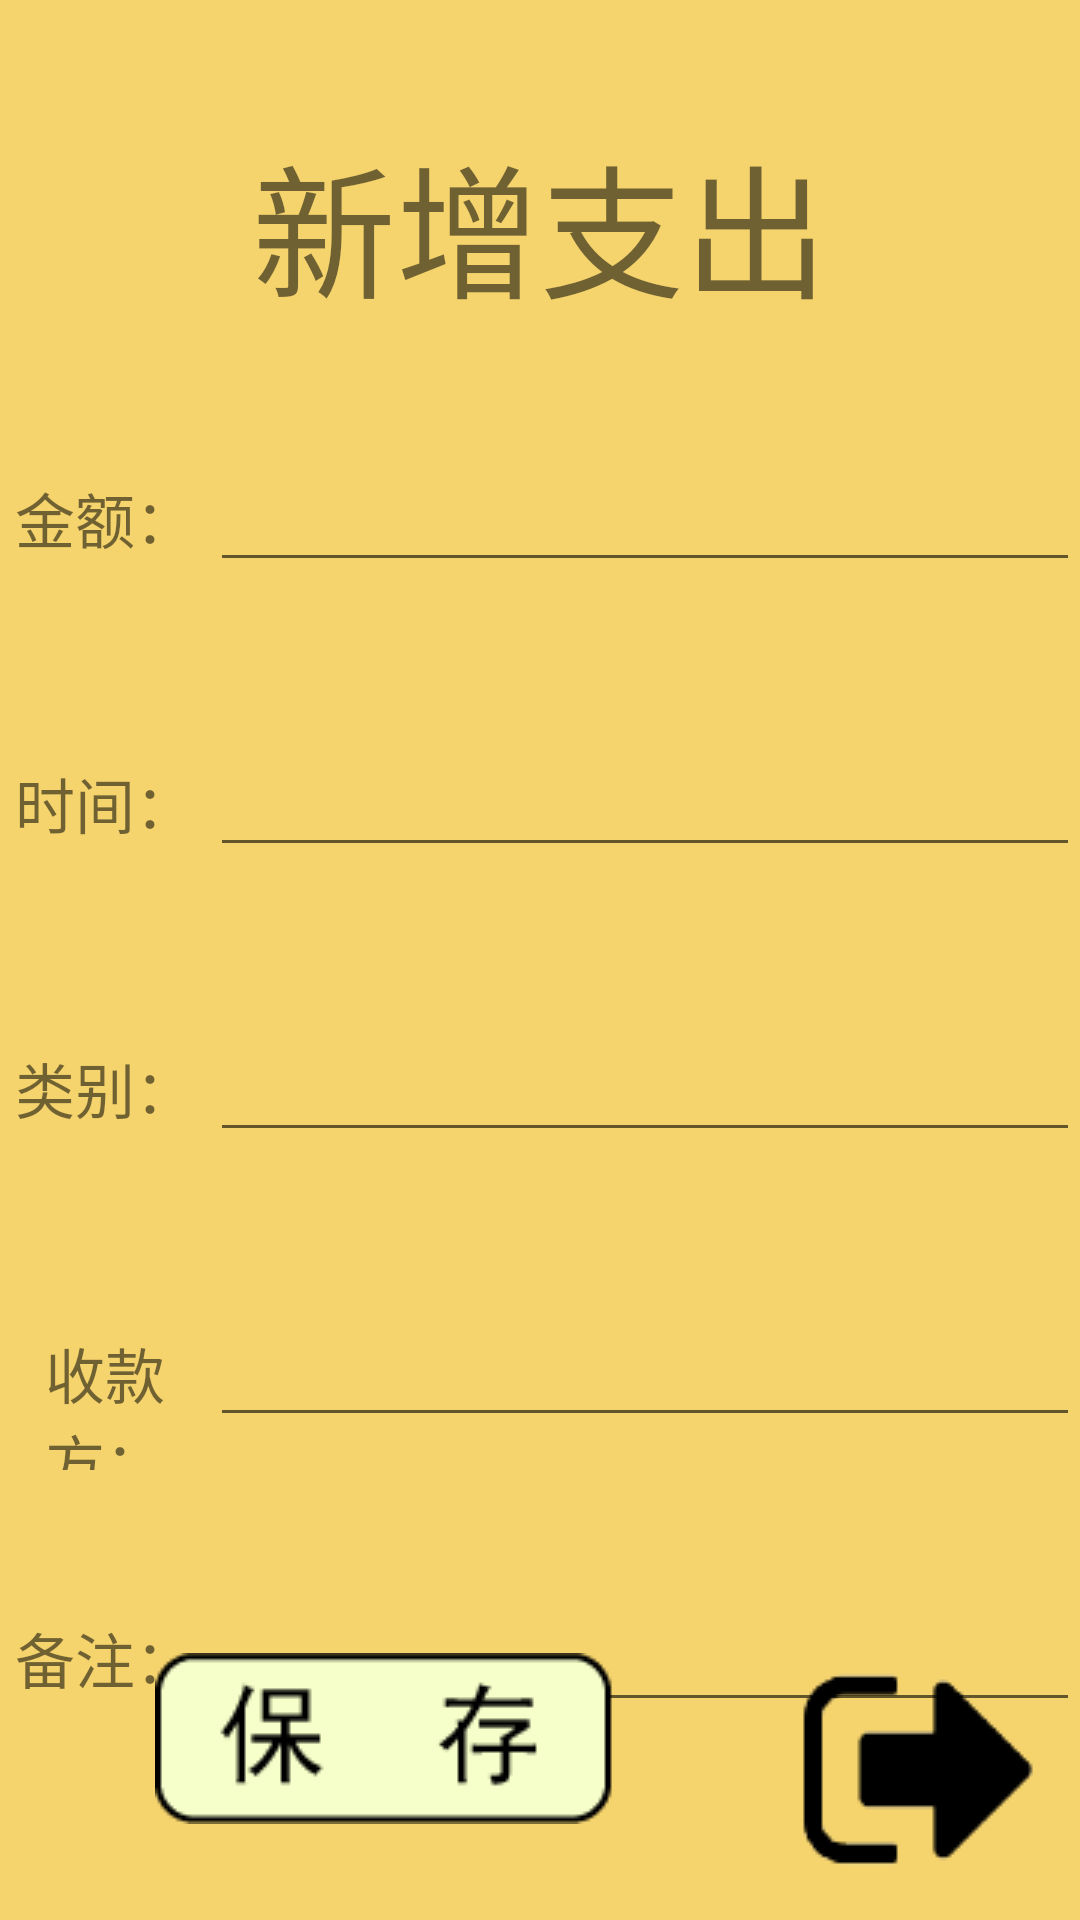

Screen size 1080w x 1920h. Icon name, then its center in pixels as (x=x, y=y):
quit: (x=918, y=1769)
